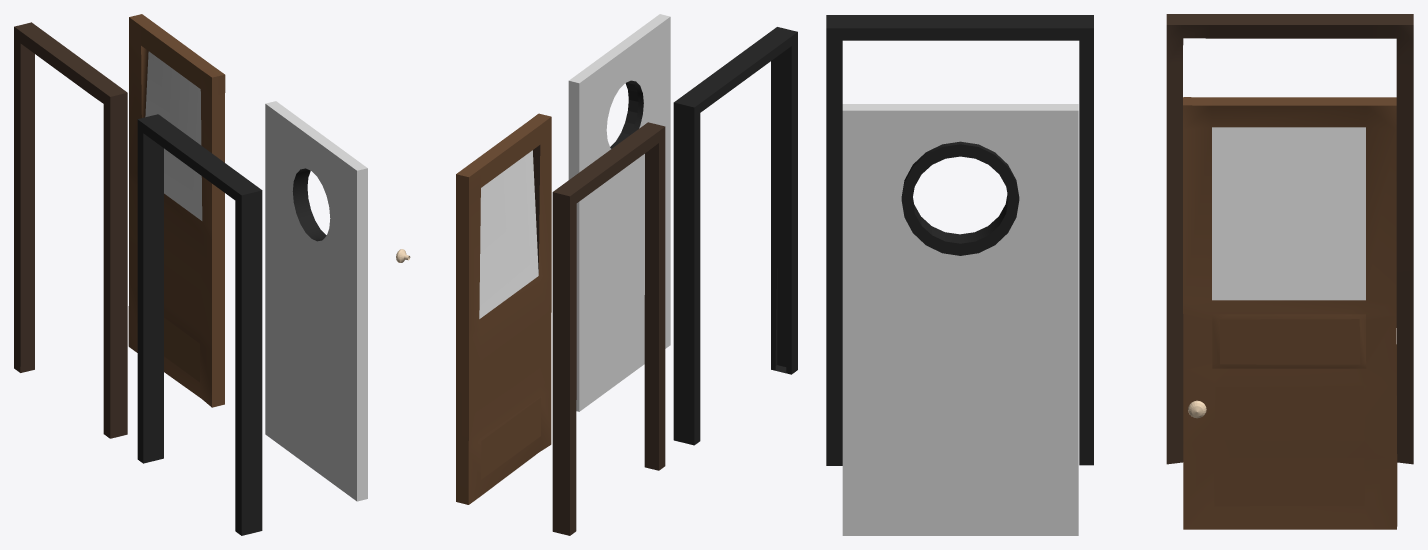
File: PD_doors_open_TL.fbx
The picture shows the model from 3 angles, left to right: view 1: azimuth 30°, elevation 25°; view 2: azimuth 150°, elevation 25°; view 3: azimuth 270°, elevation 25°; orthographic projection. The views are drawn at different scales.
Visible parts, largest first — view 1: polySurface1, polySurface4, polySurface2, polySurface3; view 2: polySurface4, polySurface1, polySurface2, polySurface3; view 3: polySurface1, polySurface4, polySurface3, polySurface2.
Boxes of the visible parts, box(x1,y1,x2,y2) form: polySurface1: box(265, 101, 367, 501); polySurface4: box(128, 14, 225, 407); polySurface2: box(137, 114, 262, 535); polySurface3: box(14, 22, 127, 438); polySurface4: box(456, 113, 551, 504); polySurface1: box(568, 14, 670, 411); polySurface2: box(673, 27, 797, 445); polySurface3: box(552, 122, 665, 535); polySurface1: box(842, 104, 1078, 535); polySurface4: box(1183, 97, 1397, 529); polySurface3: box(1166, 14, 1413, 464); polySurface2: box(826, 15, 1093, 465).
Bounding box in the file's own units: 4.64 × 5.85 × 7.09.
